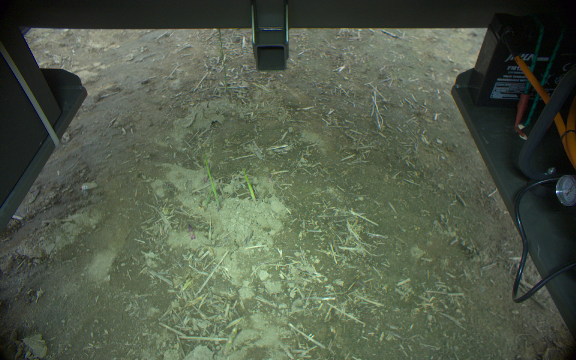aspa: (199, 148, 221, 211), (216, 29, 228, 92), (241, 166, 257, 204)
